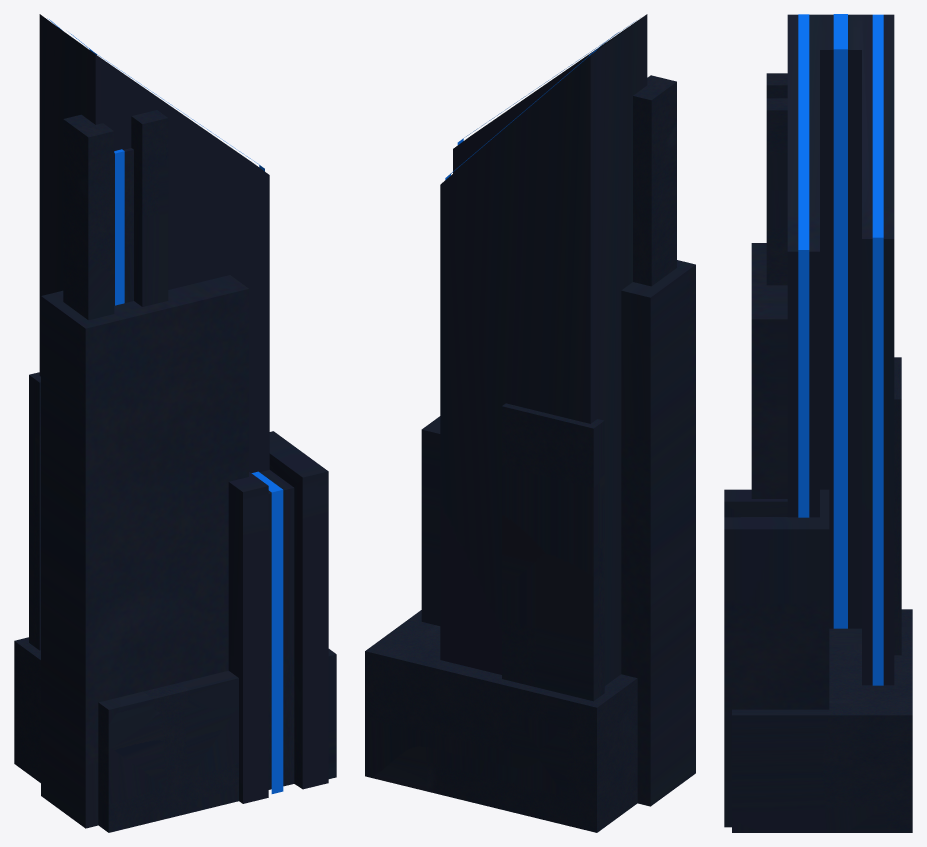
The model's file is Green Building.fbx.
3 renders of one model, left to right at view 1: azimuth 30°, elevation 25°; view 2: azimuth 150°, elevation 25°; view 3: azimuth 270°, elevation 25°, orthographic. The views are drawn at different scales.
Visible parts, largest first — view 1: Green Building, Neon2; view 2: Green Building; view 3: Green Building, Neon2.
Boxes of the visible parts, <box> form: Green Building: <box>14,14,336,832</box>; Neon2: <box>47,18,283,793</box>; Green Building: <box>365,14,695,832</box>; Green Building: <box>724,14,912,832</box>; Neon2: <box>798,14,883,685</box>.
Bounding box in the file's own units: 50.42 × 153 × 35.69.
